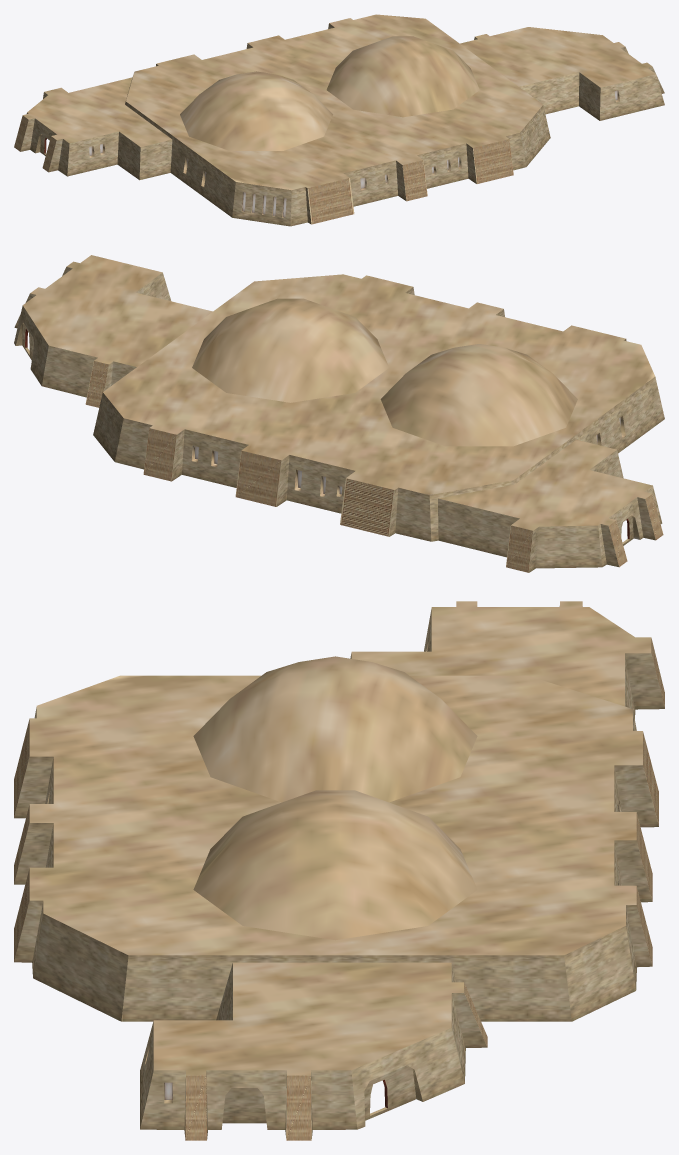
The model's file is thm_tato_cantina_r0_mesh_r0_l3.fbx.
3 renders of one model, top to bottom at view 1: azimuth 30°, elevation 25°; view 2: azimuth 150°, elevation 25°; view 3: azimuth 270°, elevation 25°, orthographic. The views are drawn at different scales.
Visible parts, largest first — view 1: mesh_node; view 2: mesh_node; view 3: mesh_node.
Boxes of the visible parts, x1,y1,x2,y2 form: mesh_node: [14, 14, 664, 226]; mesh_node: [14, 255, 664, 572]; mesh_node: [14, 601, 664, 1140].
Size of the model in its own units: 106 by 13.74 by 59.27.
